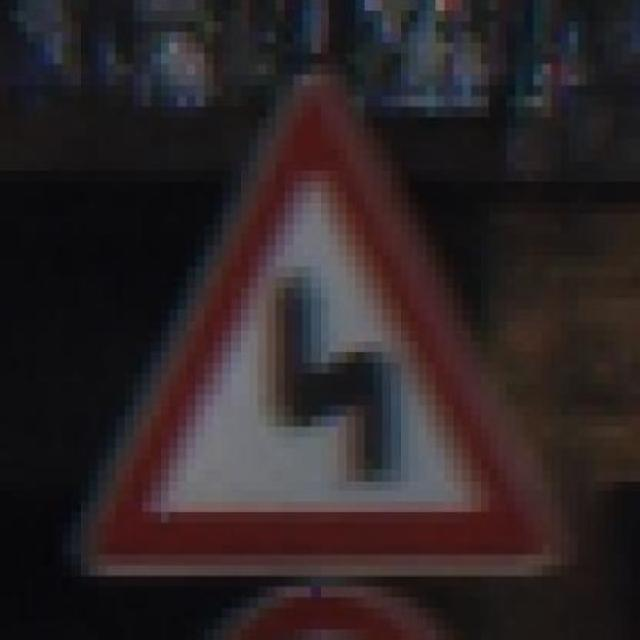Left Zig Zag Traffic: (44, 42, 596, 587)
